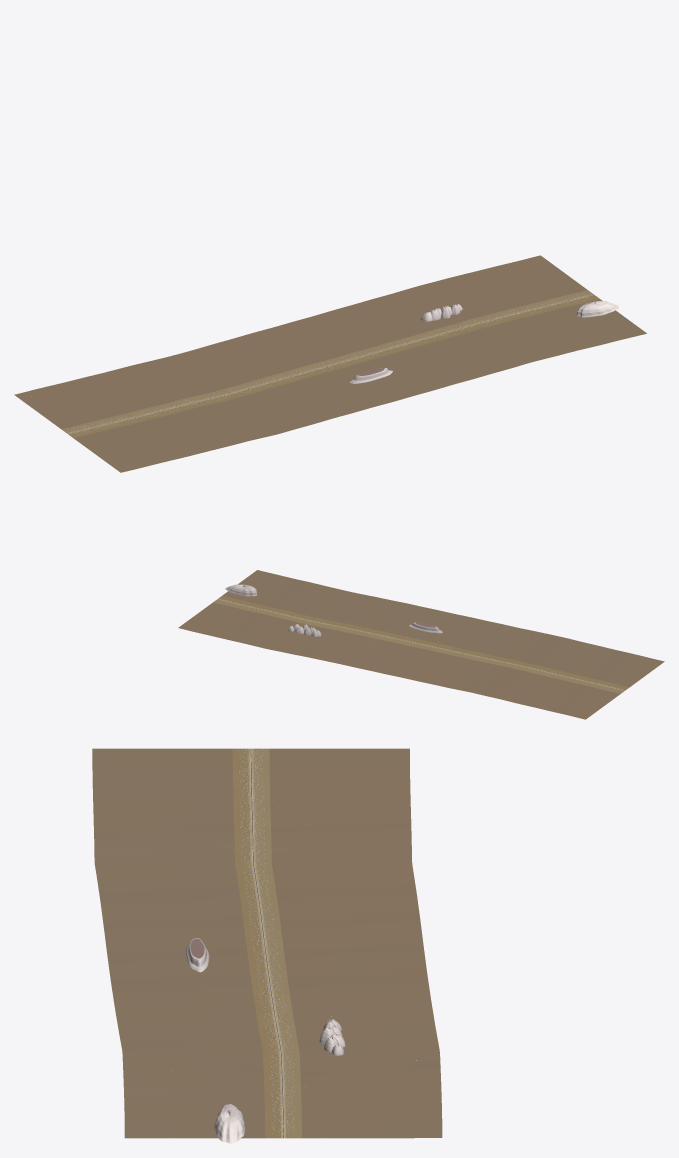
The model's file is outback.glb.
3 renders of one model, top to bottom at view 1: azimuth 30°, elevation 25°; view 2: azimuth 150°, elevation 25°; view 3: azimuth 270°, elevation 25°, orthographic. The views are drawn at different scales.
Parts seen in each view (by area): view 1: RedSand_016, RedSand_029, RedSand_039, RedSand_013, RedSand_017, RedSand_020, RedSand_028, RedSand_009, RedSand_038, RedSand_003, RedSand_019, RedSand_037 (+35 smaller); view 2: RedSand_016, RedCentreRock, RedSand_039, RedSand_013, RedSand_029, RedSand_003, RedSand_020, RedSand_009, RedSand_017, RedSand_038, RedSand_005, RedSand_014 (+35 smaller); view 3: RedSand_005, RedSand_012, RedSand_003, RedSand_013, RedSand_016, RedSand_029, RedSand_011, RedSand_039, RedSand_041, RedSand_007, RedSand_000, RedSand_030 (+35 smaller).
Part boxes in pixels (left/top/right/bottom): RedSand_016: left=196, top=346, right=319, bottom=425; RedSand_029: left=342, top=304, right=466, bottom=383; RedSand_039: left=458, top=273, right=576, bottom=353; RedSand_013: left=165, top=355, right=286, bottom=435; RedSand_017: left=208, top=342, right=330, bottom=422; RedSand_020: left=241, top=333, right=364, bottom=412; RedSand_028: left=331, top=308, right=454, bottom=387; RedSand_009: left=118, top=366, right=236, bottom=446; RedSand_038: left=446, top=276, right=565, bottom=356; RedSand_003: left=49, top=383, right=167, bottom=463; RedSand_019: left=230, top=336, right=353, bottom=415; RedSand_037: left=435, top=279, right=553, bottom=359; RedSand_016: left=439, top=626, right=521, bottom=687; RedCentreRock: left=225, top=584, right=442, bottom=636; RedSand_039: left=231, top=582, right=317, bottom=642; RedSand_013: left=466, top=632, right=550, bottom=692; RedSand_029: left=323, top=601, right=405, bottom=662; RedSand_003: left=551, top=653, right=638, bottom=713; RedSand_020: left=403, top=619, right=486, bottom=679; RedSand_009: left=499, top=641, right=585, bottom=700; RedSand_017: left=430, top=624, right=512, bottom=685; RedSand_038: left=241, top=584, right=326, bottom=644; RedSand_005: left=534, top=649, right=620, bottom=709; RedSand_014: left=457, top=630, right=539, bottom=691; RedSand_005: left=93, top=790, right=410, bottom=800; RedSand_012: left=94, top=850, right=411, bottom=859; RedSand_003: left=92, top=773, right=410, bottom=783; RedSand_013: left=94, top=859, right=412, bottom=870; RedSand_016: left=98, top=882, right=416, bottom=895; RedSand_029: left=113, top=991, right=430, bottom=1004; RedSand_011: left=94, top=841, right=411, bottom=850; RedSand_039: left=123, top=1077, right=441, bottom=1086; RedSand_041: left=124, top=1095, right=441, bottom=1104; RedSand_007: left=93, top=807, right=410, bottom=817; RedSand_000: left=92, top=748, right=409, bottom=757; RedSand_030: left=114, top=999, right=432, bottom=1013.
Size of the model in its own units: 14585 by 3233 by 5915.
